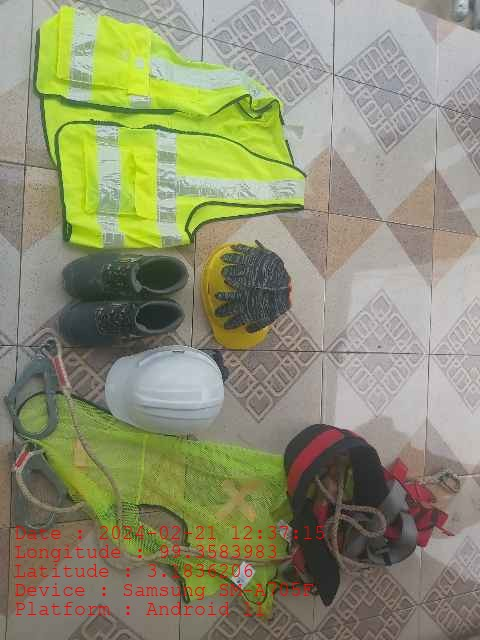HELM: (104, 346, 225, 434)
SARUNG TANGAN: (40, 7, 304, 245)
SEPATU: (59, 252, 185, 338)
